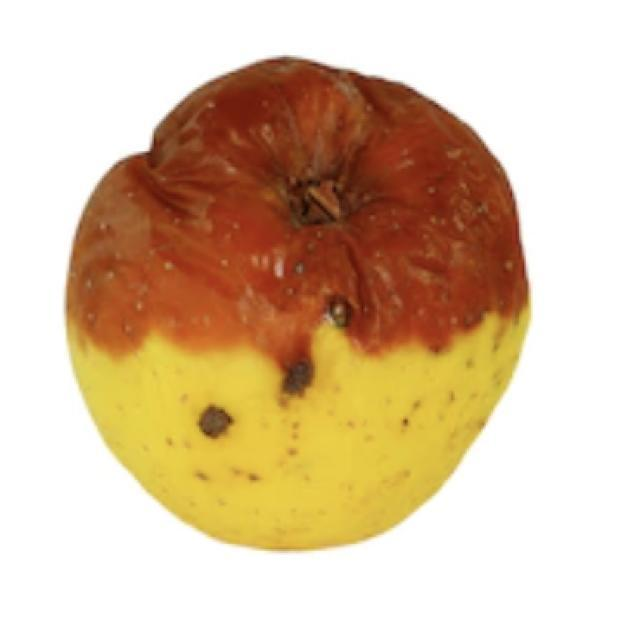Rotten: (91, 63, 512, 547)
